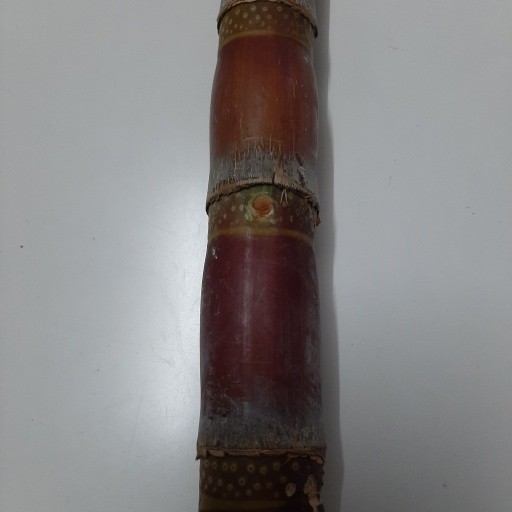Damage_Bud: (246, 193, 275, 221)
